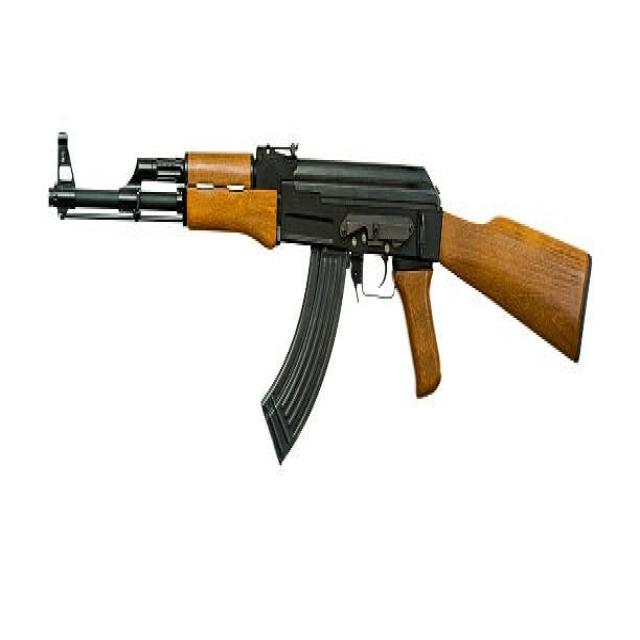rifle: (42, 105, 597, 485)
